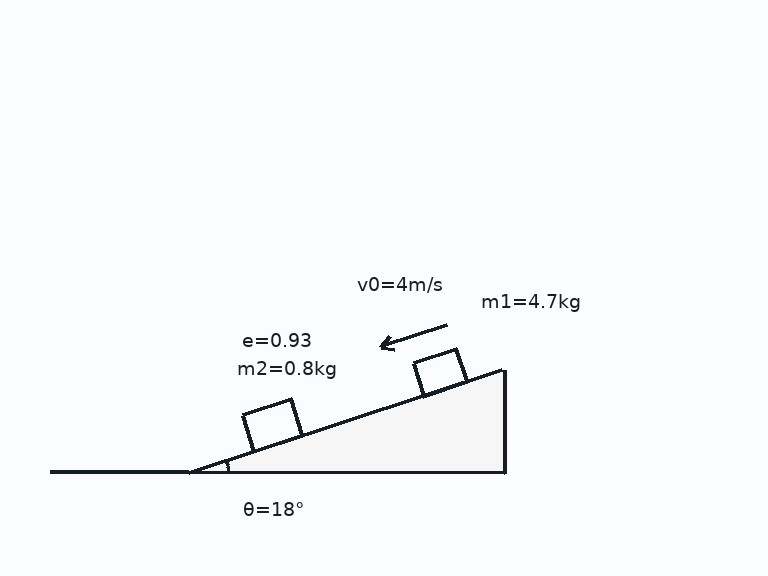block: (240, 397, 304, 453), (410, 347, 469, 398)
ramp: (186, 367, 506, 474)
